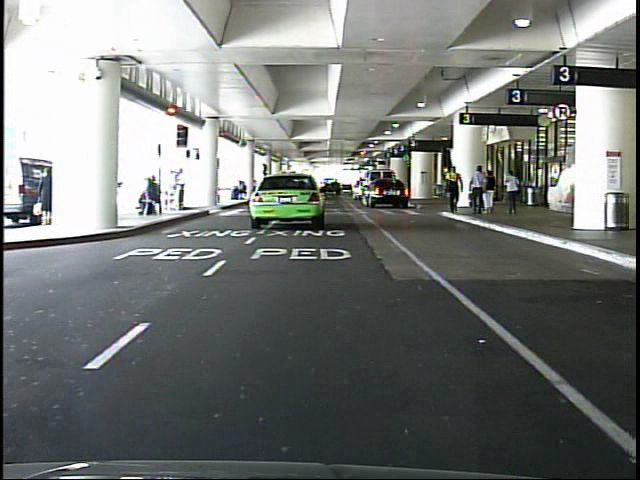person: (36, 168, 65, 226), (442, 161, 466, 218), (497, 168, 523, 218), (468, 162, 488, 219), (483, 166, 499, 218), (176, 168, 193, 215)
